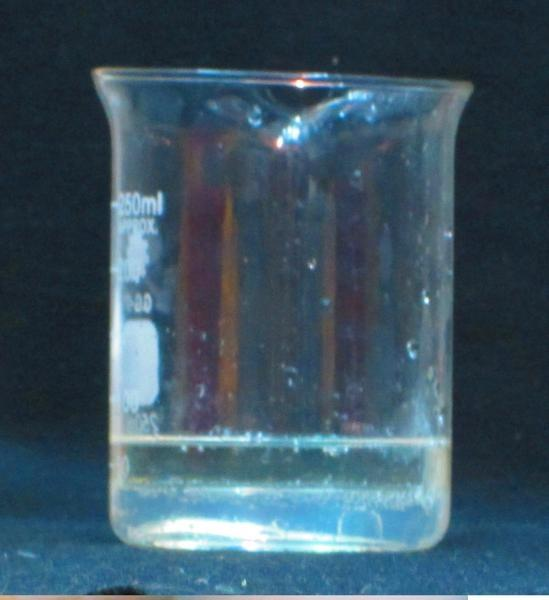Beaker: (86, 53, 483, 558)
